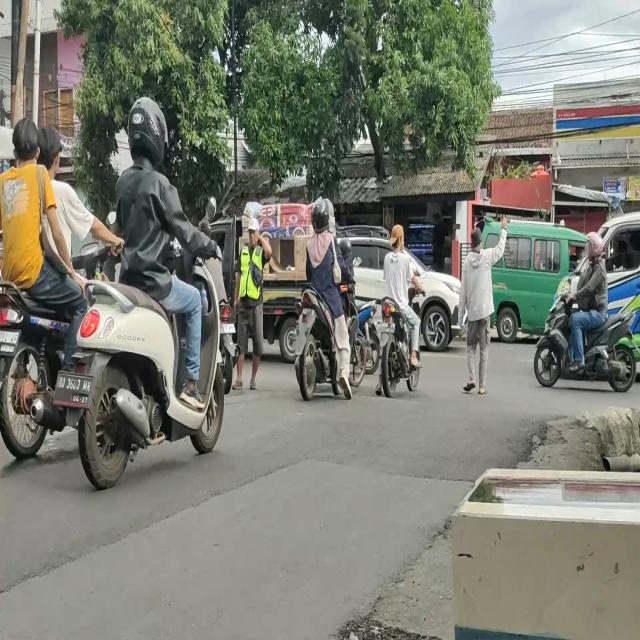helmet: (128, 97, 164, 151), (312, 202, 331, 233), (584, 234, 602, 261)
no-helmet: (38, 124, 62, 172), (14, 119, 37, 164), (391, 222, 403, 250)
